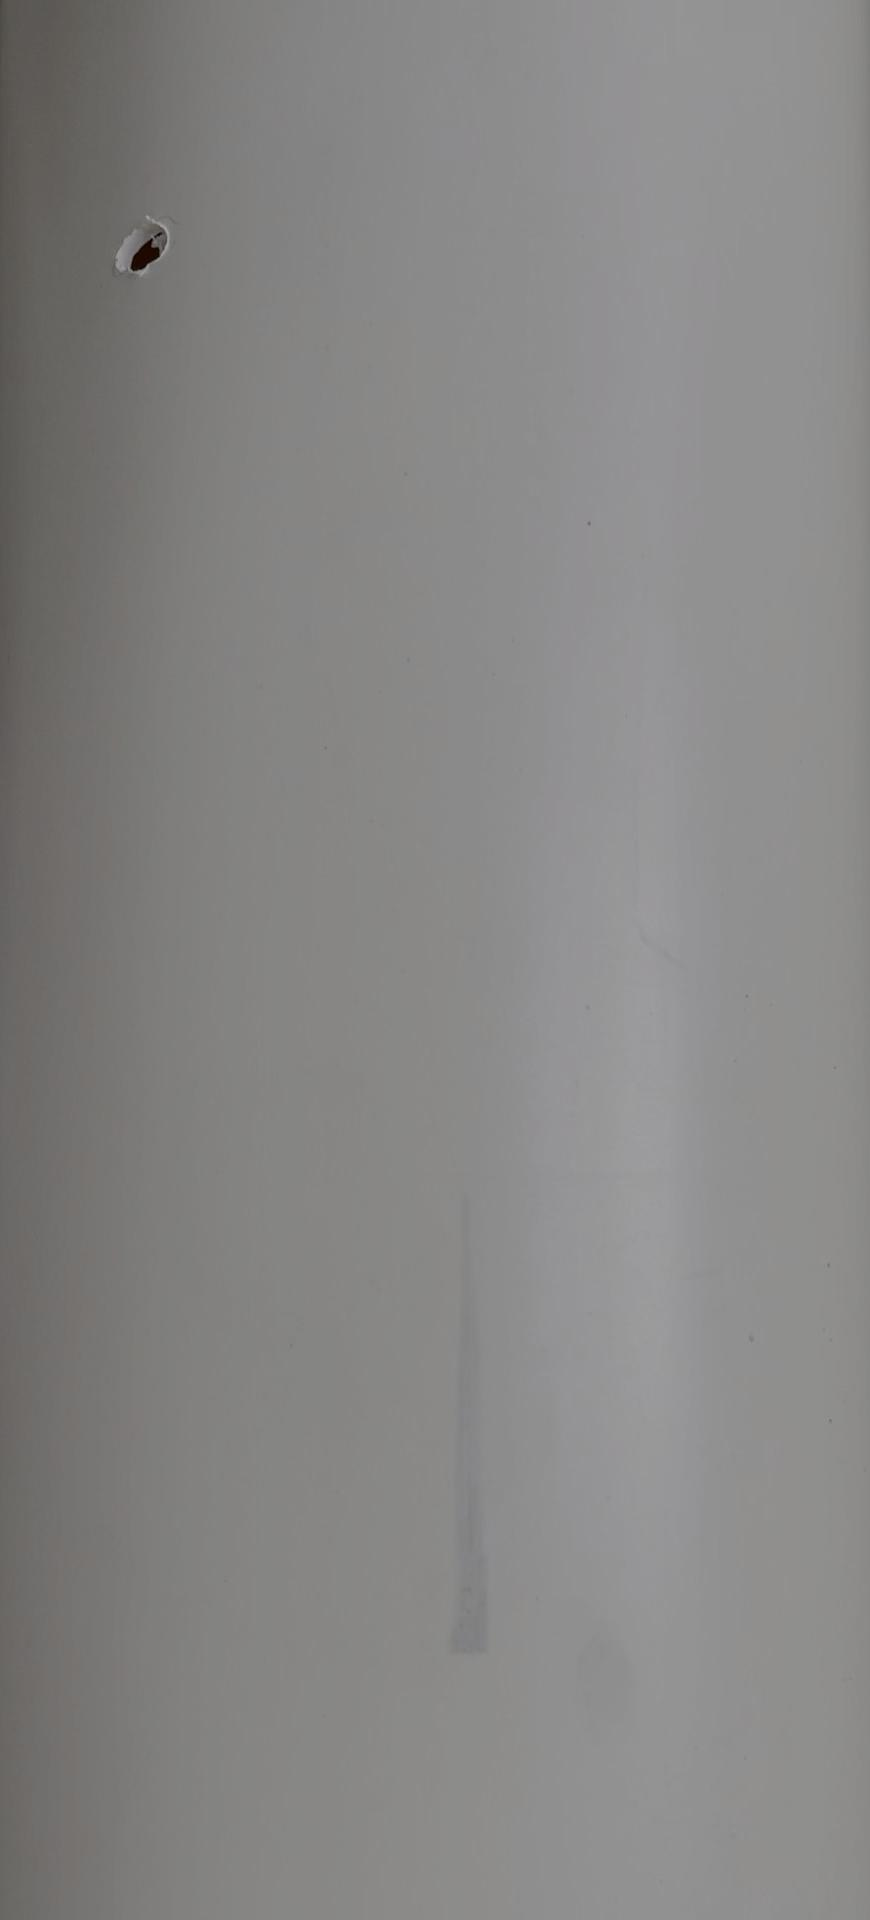kongdong: (112, 201, 173, 280)
